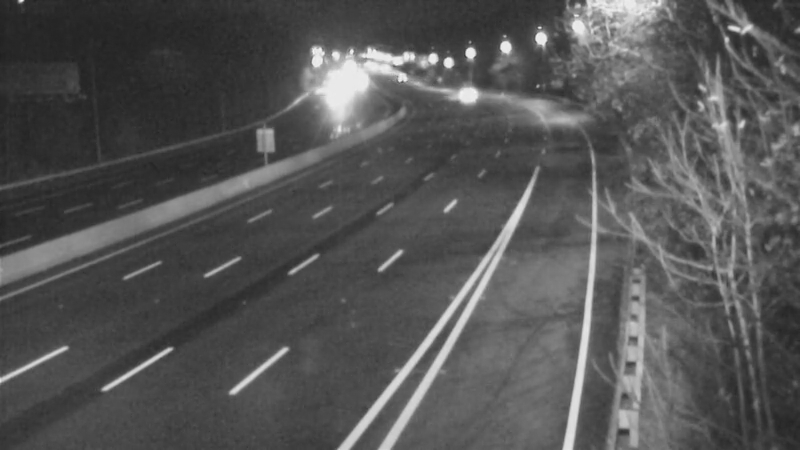vehicle: (375, 48, 425, 98), (442, 71, 492, 121), (308, 75, 358, 125)
